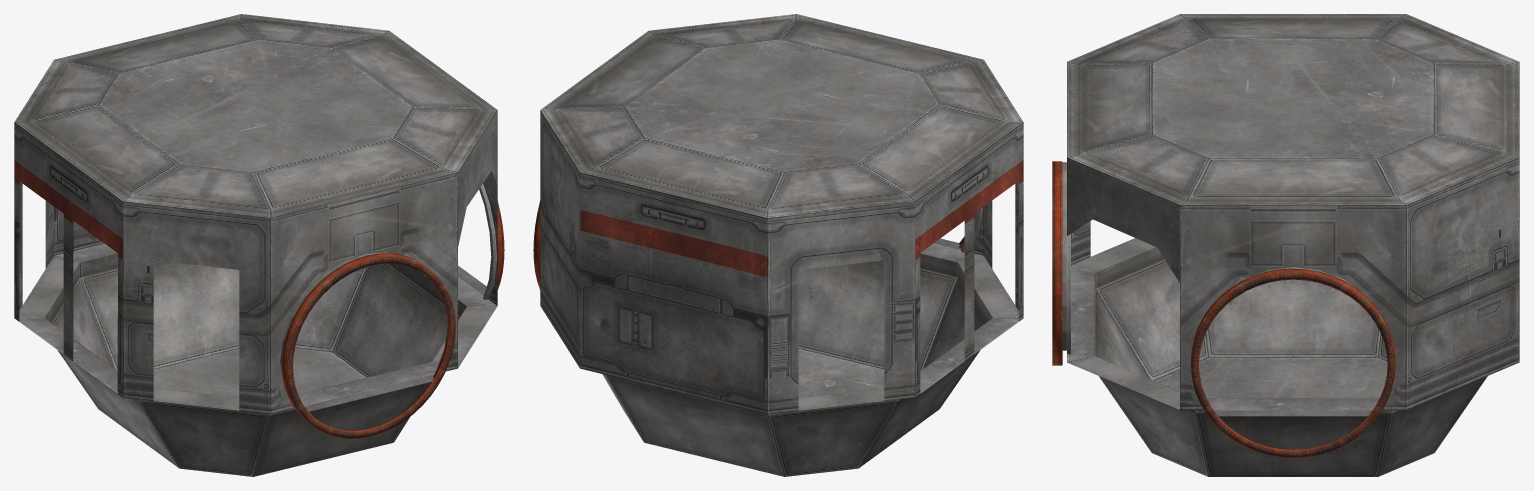
File: tau_8sided_room_divingroom_2door.dae
3 renders of one model, left to right at view 1: azimuth 30°, elevation 25°; view 2: azimuth 150°, elevation 25°; view 3: azimuth 270°, elevation 25°, orthographic. The views are drawn at different scales.
Parts seen in each view (by area): view 1: polySurface374, pPipe70, polySurface386, polySurface385; view 2: polySurface374; view 3: polySurface374, pPipe69, pPipe70, polySurface386, polySurface385.
Part boxes in pixels (x1,y1,x2,y2): polySurface374: (14, 14, 497, 476); pPipe70: (282, 253, 455, 438); polySurface386: (280, 252, 447, 411); polySurface385: (458, 184, 496, 299); polySurface374: (540, 14, 1023, 476); polySurface374: (1067, 14, 1519, 476); pPipe69: (1191, 268, 1395, 457); pPipe70: (1052, 161, 1062, 365); polySurface386: (1062, 162, 1070, 354); polySurface385: (1205, 267, 1381, 416).
Size of the model in its own units: 8.26 by 6.21 by 8.26.
